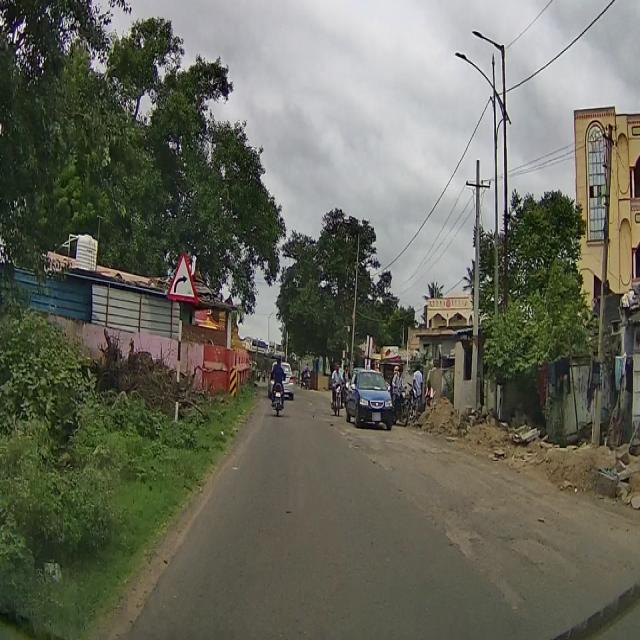right-hand-curve: (168, 252, 198, 296)
